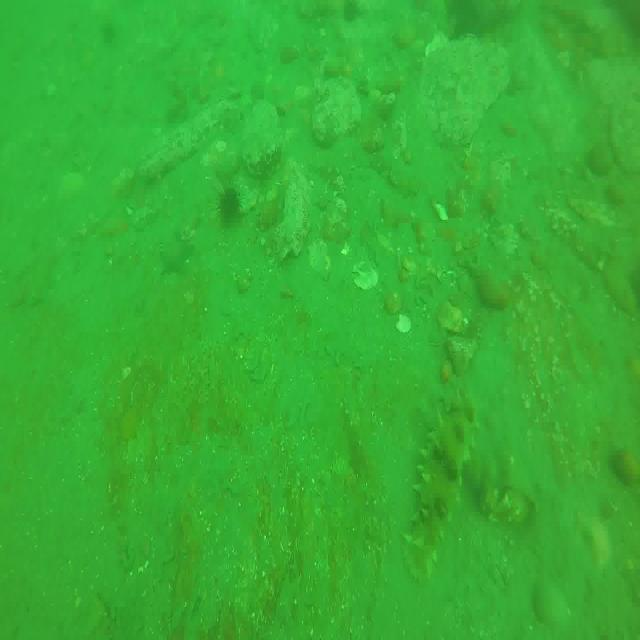echinus: (220, 186, 241, 225)
holothurian: (408, 392, 478, 583)
scallop: (354, 251, 380, 300), (395, 312, 413, 338)
starfish: (161, 235, 195, 274)
